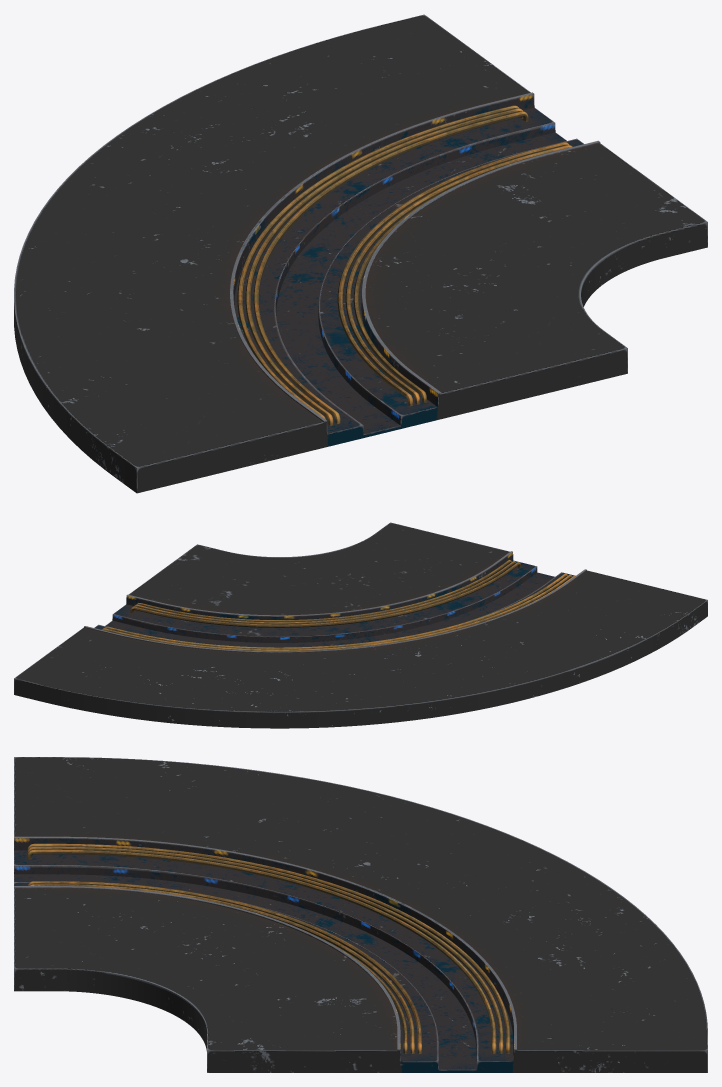
File: SM_Floor_4.fbx
The picture shows the model from 3 angles, top to bottom: view 1: azimuth 30°, elevation 25°; view 2: azimuth 150°, elevation 25°; view 3: azimuth 270°, elevation 25°; orthographic projection. The views are drawn at different scales.
Visible parts, largest first — view 1: SM_Floor_4; view 2: SM_Floor_4; view 3: SM_Floor_4.
Boxes of the visible parts, bbox=[...] form: SM_Floor_4: bbox=[14, 14, 707, 493]; SM_Floor_4: bbox=[14, 522, 707, 728]; SM_Floor_4: bbox=[14, 757, 707, 1072].
Size of the model in its own units: 7019 by 262 by 7019.
